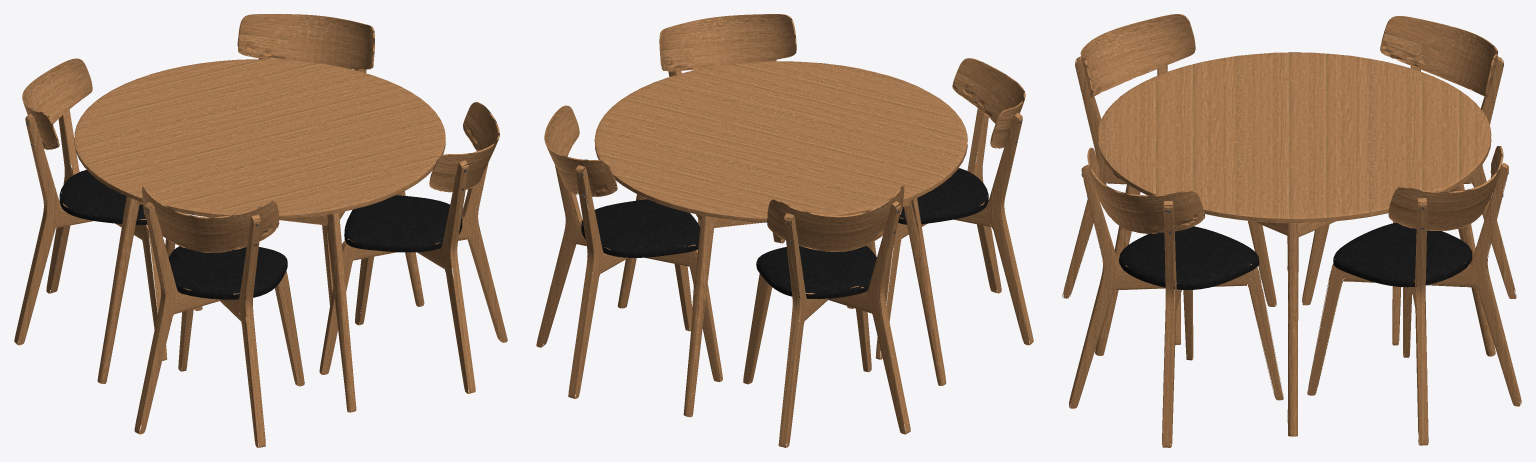
Rendered from f_dining.glb.
The picture shows the model from 3 angles, left to right: view 1: azimuth 30°, elevation 25°; view 2: azimuth 150°, elevation 25°; view 3: azimuth 270°, elevation 25°; orthographic projection. The views are drawn at different scales.
Size of the model in its own units: 17.81 by 10.9 by 17.91.
Materials: 3 (2 with a texture image).
